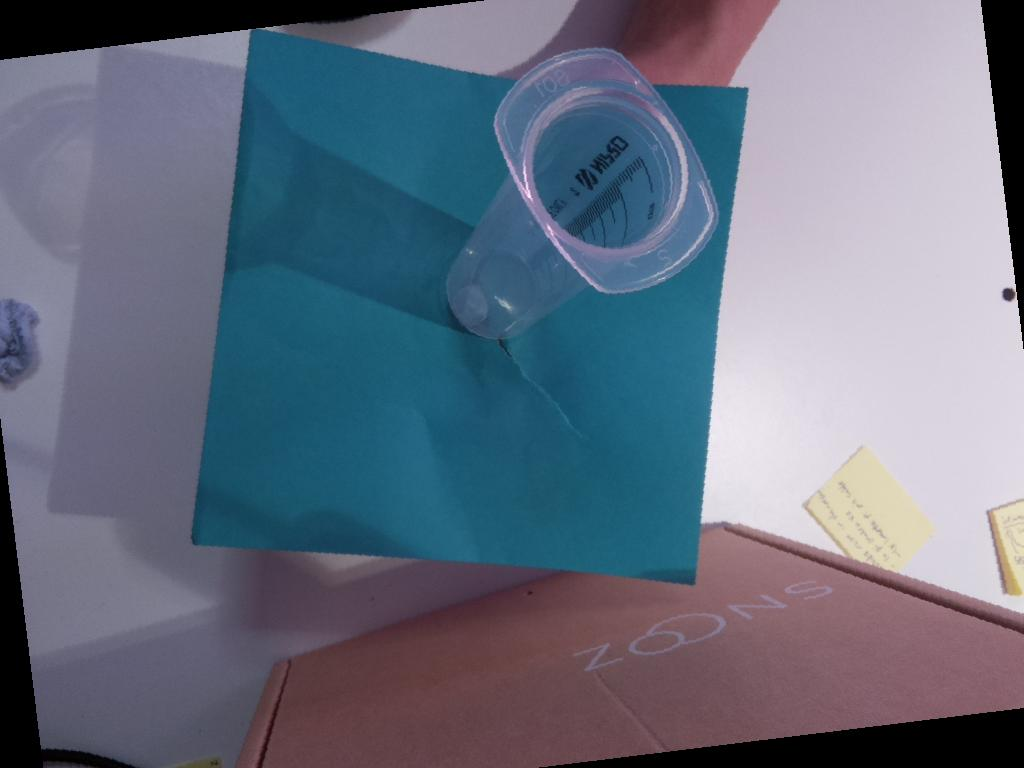clean: (493, 45, 721, 296)
